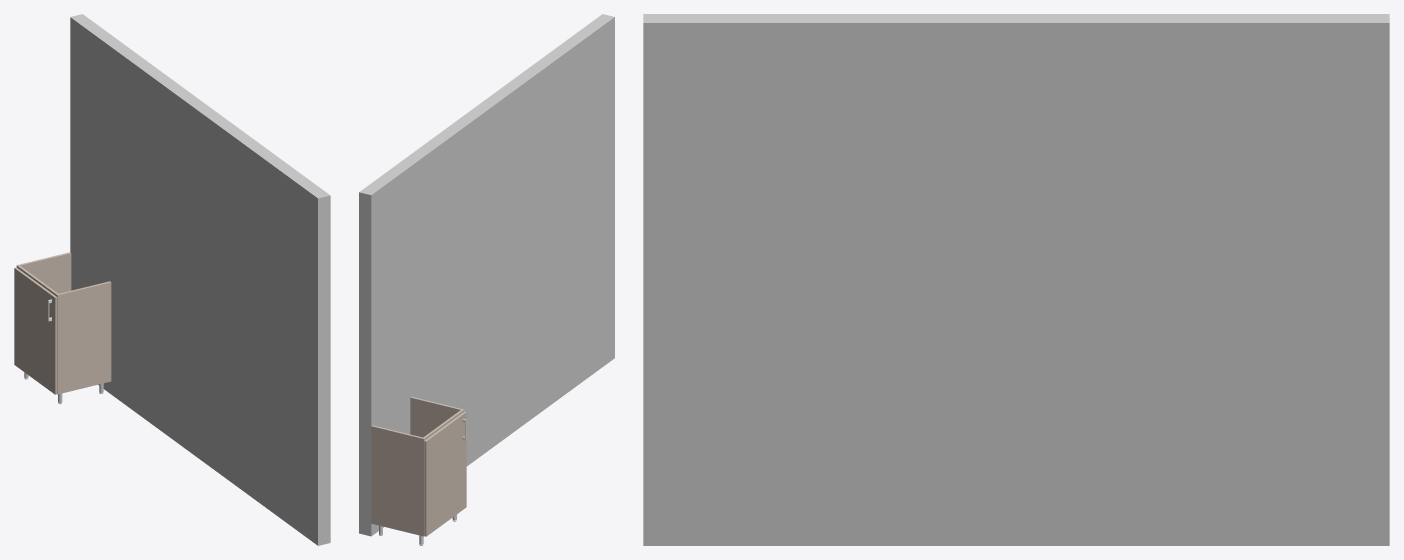
File: MOSDO.glb
The picture shows the model from 3 angles, left to right: view 1: azimuth 30°, elevation 25°; view 2: azimuth 150°, elevation 25°; view 3: azimuth 270°, elevation 25°; orthographic projection. The views are drawn at different scales.
Parts seen in each view (by area): view 1: 3DGeom-562, 3DGeom-567, 3DGeom-574, 3DGeom-565, 3DGeom-573; view 2: 3DGeom-562, 3DGeom-565, 3DGeom-574, 3DGeom-567, 3DGeom-573; view 3: 3DGeom-562.
Part boxes in pixels (box(x1,y1,x2,y2)): 3DGeom-562: box(70, 14, 330, 545); 3DGeom-567: box(57, 282, 111, 391); 3DGeom-574: box(14, 268, 55, 394); 3DGeom-565: box(20, 253, 71, 293); 3DGeom-573: box(15, 267, 57, 394); 3DGeom-562: box(359, 14, 614, 536); 3DGeom-565: box(371, 426, 423, 533); 3DGeom-574: box(426, 412, 466, 536); 3DGeom-567: box(410, 397, 460, 437); 3DGeom-573: box(424, 411, 465, 536); 3DGeom-562: box(643, 14, 1389, 545).
Bounding box in the file's own units: 0.5745 × 2.66 × 3.44.
Materials: 6 (3 with a texture image).
